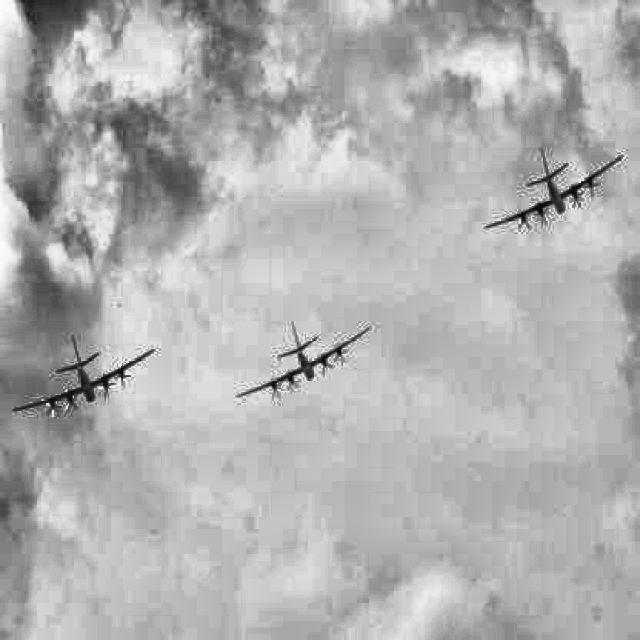Tu95: (12, 334, 156, 418), (485, 147, 623, 228), (237, 320, 371, 398)
